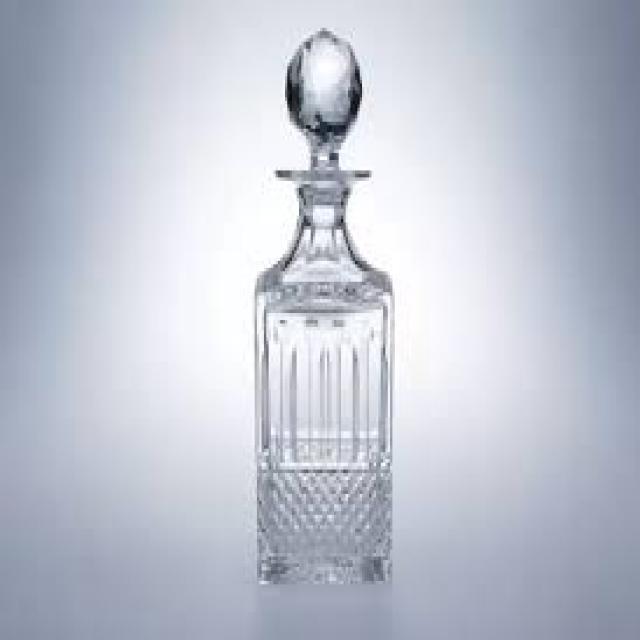Glass-Non-Biodegradable but Recyclable-: (253, 26, 395, 588)
